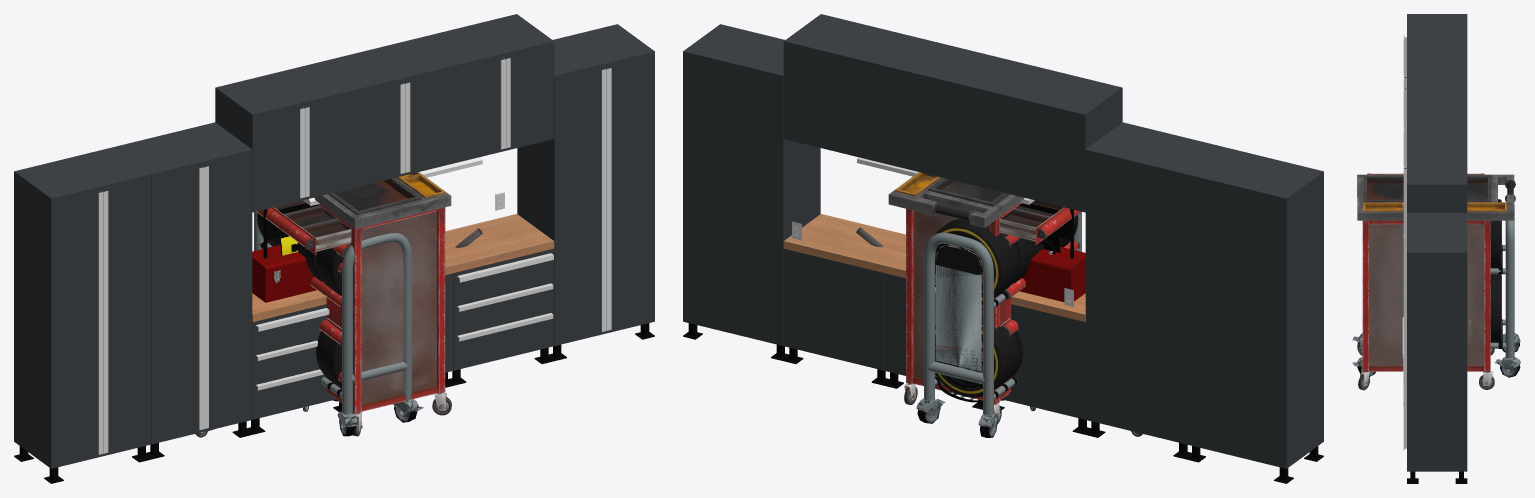
The model's file is nbr_pit.glb.
3 renders of one model, left to right at view 1: azimuth 30°, elevation 25°; view 2: azimuth 150°, elevation 25°; view 3: azimuth 270°, elevation 25°, orthographic. The views are drawn at different scales.
Visible parts, largest first — view 1: cabinets, chest, tyrecart, pitboard; view 2: cabinets, tyrecart, chest, pitboard; view 3: cabinets, chest, tyrecart.
Part boxes in pixels (x1,y1,x2,y2): cabinets: (14,14,654,483); chest: (256,172,451,436); tyrecart: (254,205,423,436); pitboard: (263,203,317,382); cabinets: (683,14,1323,483); tyrecart: (916,207,1081,437); chest: (888,172,1081,424); pitboard: (1019,203,1073,258); cabinets: (1402,14,1470,483); chest: (1357,173,1515,390); tyrecart: (1352,199,1520,377).
Size of the model in its own units: 4.26 by 2.16 by 1.27.
Materials: 22 (20 with a texture image).
